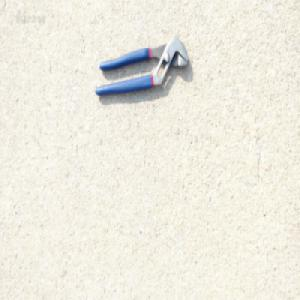Pliers: (93, 37, 190, 98)
